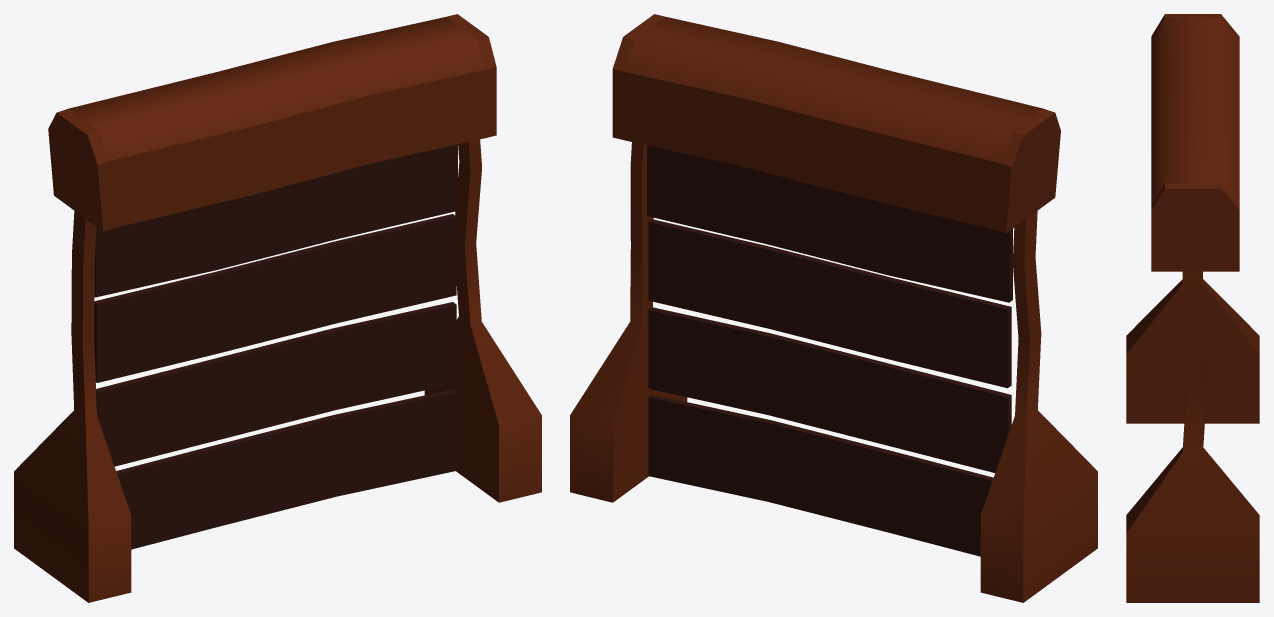
The model's file is Door.fbx.
3 views of the same model, side by side, from view 1: azimuth 30°, elevation 25°; view 2: azimuth 150°, elevation 25°; view 3: azimuth 270°, elevation 25° (orthographic). The views are drawn at different scales.
Visible parts, largest first — view 1: Frame, Board02, Board03, Board04, Board01; view 2: Frame, Board02, Board03, Board04, Board01; view 3: Frame.
Boxes of the visible parts, x1=… form: Frame: x1=14, y1=14, x2=541, y2=602; Board02: x1=94, y1=214, x2=456, y2=382; Board03: x1=96, y1=302, x2=456, y2=466; Board04: x1=116, y1=389, x2=456, y2=549; Board01: x1=94, y1=144, x2=457, y2=297; Frame: x1=570, y1=14, x2=1097, y2=602; Board02: x1=648, y1=219, x2=1011, y2=388; Board03: x1=648, y1=307, x2=1011, y2=472; Board04: x1=648, y1=394, x2=993, y2=556; Board01: x1=647, y1=145, x2=1012, y2=302; Frame: x1=1126, y1=14, x2=1259, y2=602.
Bounding box in the file's own units: 6.14 × 5.82 × 1.74.
